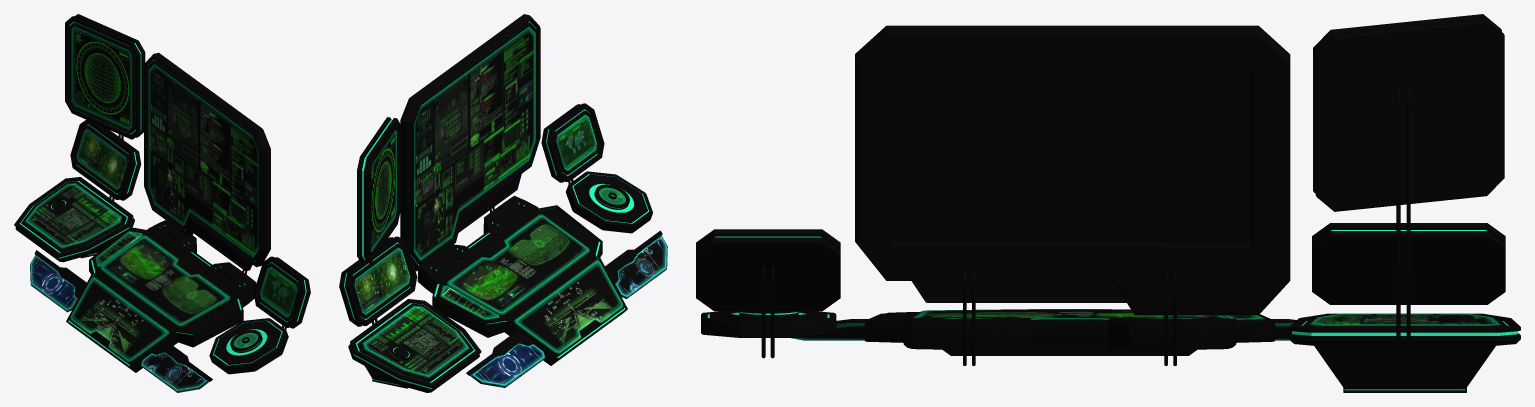
The model's file is tubitakfantastik.fbx.
The picture shows the model from 3 angles, left to right: view 1: azimuth 30°, elevation 25°; view 2: azimuth 150°, elevation 25°; view 3: azimuth 270°, elevation 25°; orthographic projection. The views are drawn at different scales.
Parts seen in each view (by area): view 1: Cylinder.021; view 2: Cylinder.021; view 3: Cylinder.021.
Boxes of the visible parts, left/top/right/bottom form: Cylinder.021: left=14, top=14, right=310, bottom=392; Cylinder.021: left=339, top=14, right=667, bottom=392; Cylinder.021: left=696, top=14, right=1520, bottom=392.
Bounding box in the file's own units: 134 × 237 × 422.
